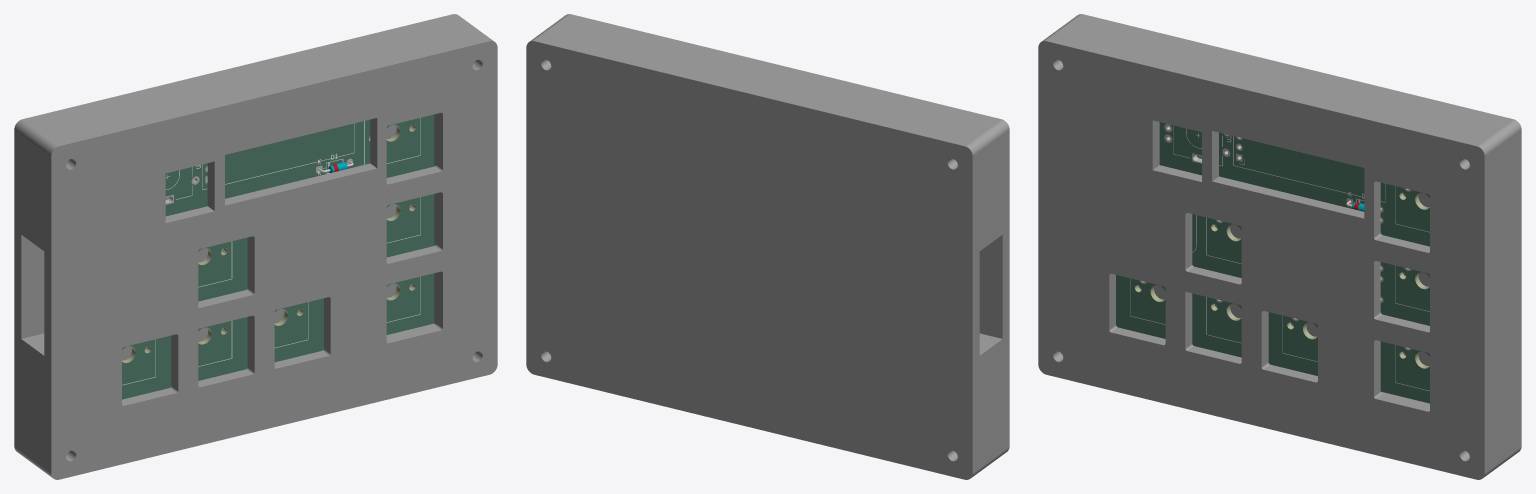
File: pcb v2 (Assembly).obj
3 renders of one model, left to right at view 1: azimuth 30°, elevation 25°; view 2: azimuth 150°, elevation 25°; view 3: azimuth 330°, elevation 25°, orthographic.
Visible parts, largest first — view 1: Body1, Body1:1, Body1:6, Body1:8; view 2: Body1:1, Body1; view 3: Body1, Body1:6, Body1:1, Body1:8.
Boxes of the visible parts, x1,y1,x2,y2 form: Body1: (44, 36, 497, 479); Body1:1: (14, 14, 487, 472); Body1:6: (122, 114, 434, 399); Body1:8: (122, 124, 415, 362); Body1:1: (526, 19, 1002, 479); Body1: (559, 14, 1009, 455); Body1: (1038, 36, 1491, 479); Body1:6: (1116, 122, 1429, 403); Body1:1: (1048, 14, 1521, 472); Body1:8: (1134, 192, 1429, 368).
Size of the model in its own units: 11.18 by 7.98 by 1.6.
